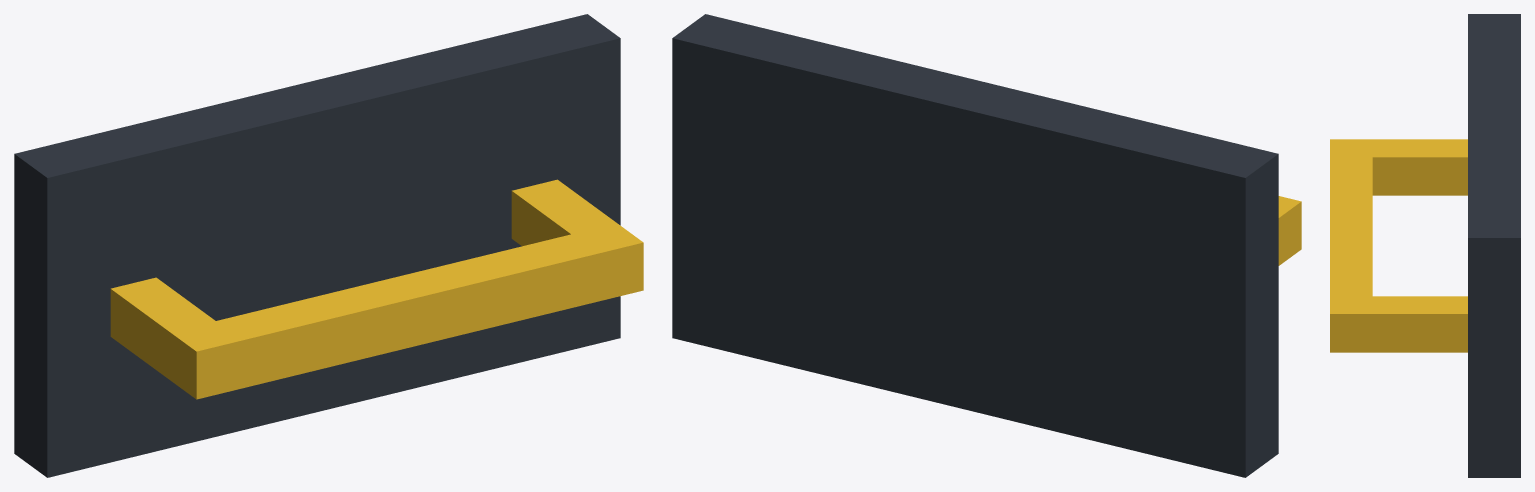
The model's file is robot_grip_handle.glb.
The picture shows the model from 3 angles, left to right: view 1: azimuth 30°, elevation 25°; view 2: azimuth 150°, elevation 25°; view 3: azimuth 270°, elevation 25°; orthographic projection. The views are drawn at different scales.
Parts seen in each view (by area): view 1: robot_grip_handle_steelDark, robot_grip_handle_yellow; view 2: robot_grip_handle_steelDark, robot_grip_handle_yellow; view 3: robot_grip_handle_steelDark, robot_grip_handle_yellow.
Boxes of the visible parts, bbox=[...] form: robot_grip_handle_steelDark: bbox=[14, 14, 620, 477]; robot_grip_handle_yellow: bbox=[110, 179, 643, 399]; robot_grip_handle_steelDark: bbox=[672, 14, 1278, 477]; robot_grip_handle_yellow: bbox=[1278, 196, 1301, 265]; robot_grip_handle_steelDark: bbox=[1468, 14, 1520, 477]; robot_grip_handle_yellow: bbox=[1330, 139, 1467, 352].
Size of the model in its own units: 1 by 0.5 by 0.36.
